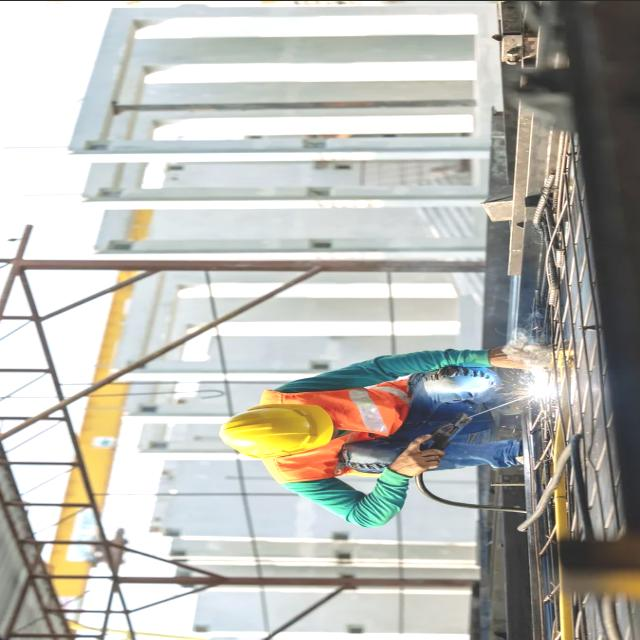Hard Hat: (218, 402, 342, 458)
Reflective Vest: (254, 370, 416, 488)
